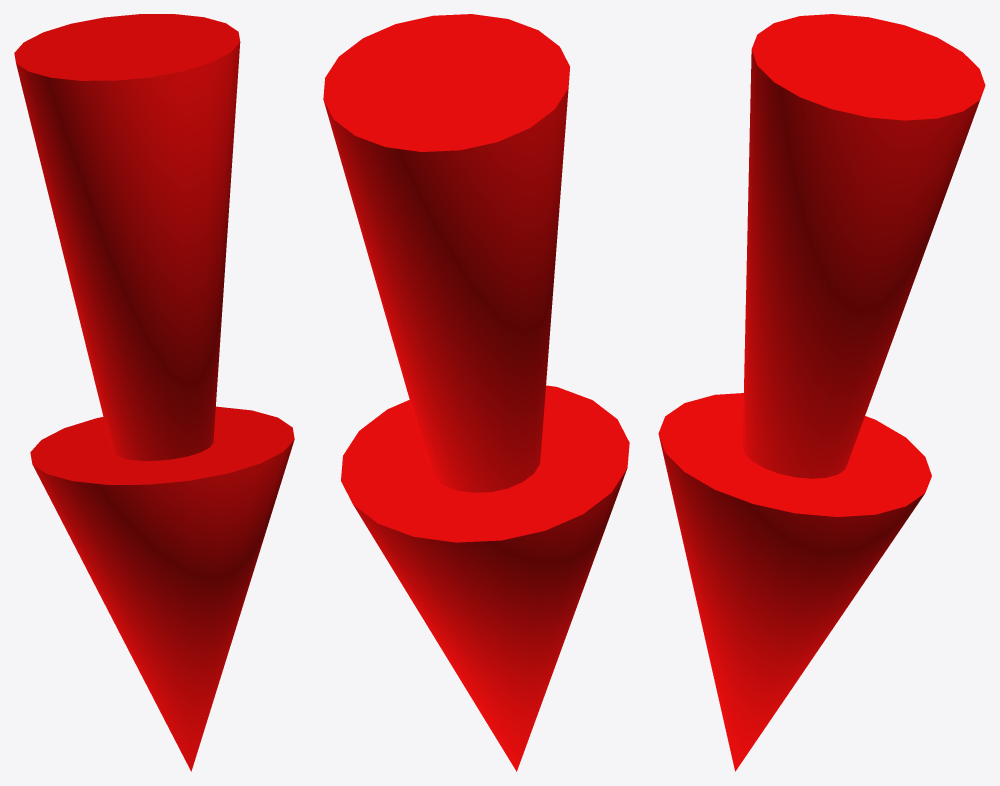
The model's file is Betaville_Marker_1.dae.
3 views of the same model, side by side, from view 1: azimuth 30°, elevation 25°; view 2: azimuth 150°, elevation 25°; view 3: azimuth 270°, elevation 25° (orthographic). The views are drawn at different scales.
Parts seen in each view (by area): view 1: Marker_1; view 2: Marker_1; view 3: Marker_1.
Boxes of the visible parts, x1=… form: Marker_1: x1=14, y1=14, x2=294, y2=771; Marker_1: x1=323, y1=14, x2=629, y2=771; Marker_1: x1=658, y1=14, x2=985, y2=771.
Size of the model in its own units: 14.6 by 41.96 by 17.21.
